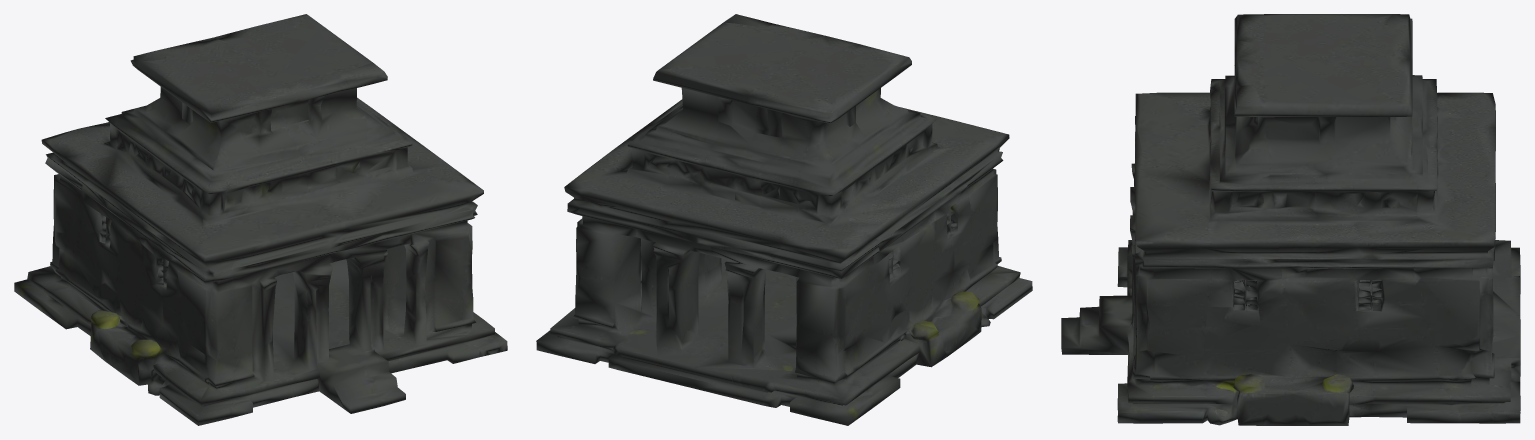
Rendered from og_hall_segment.glb.
3 views of the same model, side by side, from view 1: azimuth 30°, elevation 25°; view 2: azimuth 150°, elevation 25°; view 3: azimuth 270°, elevation 25° (orthographic). The views are drawn at different scales.
Visible parts, largest first — view 1: Mesh_0.001; view 2: Mesh_0.001; view 3: Mesh_0.001.
Boxes of the visible parts, <box> form: Mesh_0.001: <box>14,14,507,425</box>; Mesh_0.001: <box>536,14,1032,425</box>; Mesh_0.001: <box>1061,14,1520,425</box>.
Size of the model in its own units: 0.1559 by 0.12 by 0.1769.
Materials: 1 (1 with a texture image).
